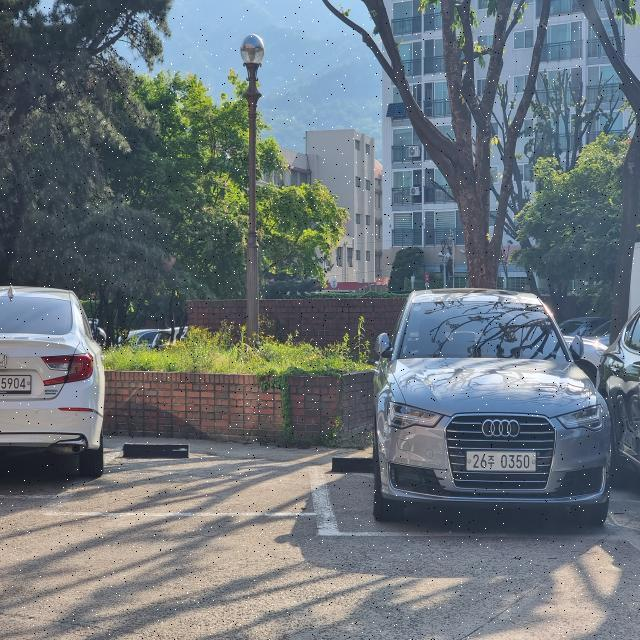empty: (86, 452, 332, 514)
occupied: (382, 291, 616, 533), (0, 280, 113, 480)
